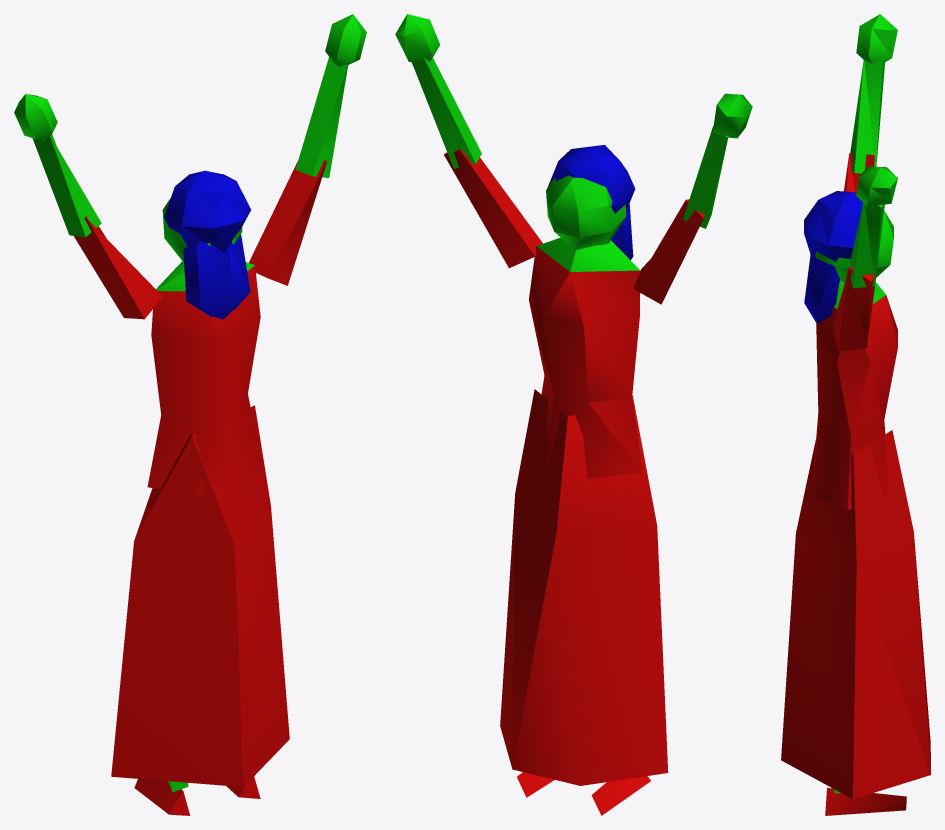
File: stand_cheer_f_lod1.glb
The picture shows the model from 3 angles, left to right: view 1: azimuth 30°, elevation 25°; view 2: azimuth 150°, elevation 25°; view 3: azimuth 270°, elevation 25°; orthographic projection. The views are drawn at different scales.
Visible parts, largest first — view 1: OUT_1; view 2: OUT_1; view 3: OUT_1.
Boxes of the visible parts, <box> form: OUT_1: <box>14,14,366,815</box>; OUT_1: <box>395,14,752,815</box>; OUT_1: <box>781,14,930,815</box>.
Size of the model in its own units: 0.981 by 2 by 0.3844.
